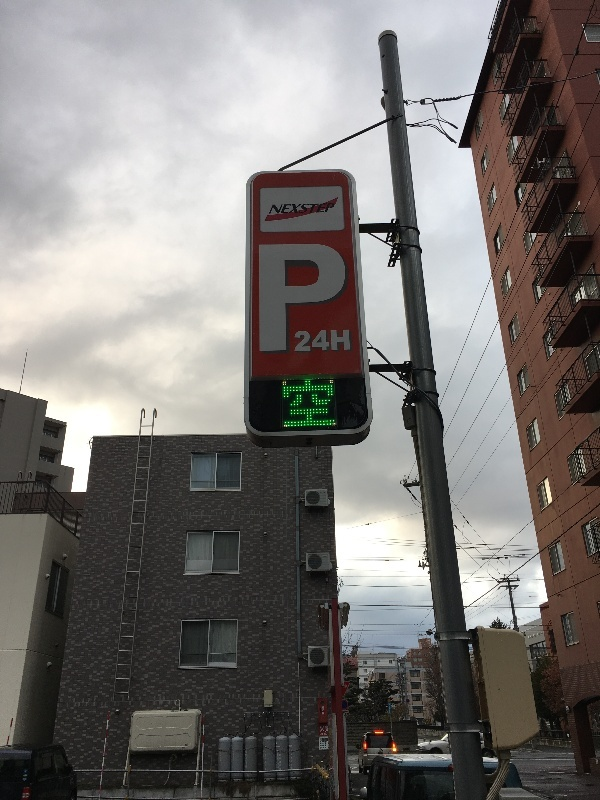text: (273, 246, 288, 355), (289, 246, 304, 355), (305, 246, 320, 355), (321, 246, 336, 355), (259, 246, 272, 355), (337, 246, 347, 355), (321, 380, 337, 431), (289, 380, 304, 431), (305, 380, 320, 431), (305, 326, 320, 355), (321, 326, 336, 355), (337, 326, 351, 355), (289, 750, 304, 771), (295, 326, 304, 355), (283, 380, 288, 431), (277, 750, 288, 771), (289, 202, 304, 216), (305, 202, 320, 216), (245, 750, 256, 769), (274, 202, 288, 216), (321, 202, 335, 216), (321, 706, 336, 715), (388, 703, 400, 714), (321, 725, 329, 733), (321, 737, 329, 744), (325, 732, 336, 736), (321, 747, 327, 750), (321, 743, 326, 746), (321, 733, 324, 736)
